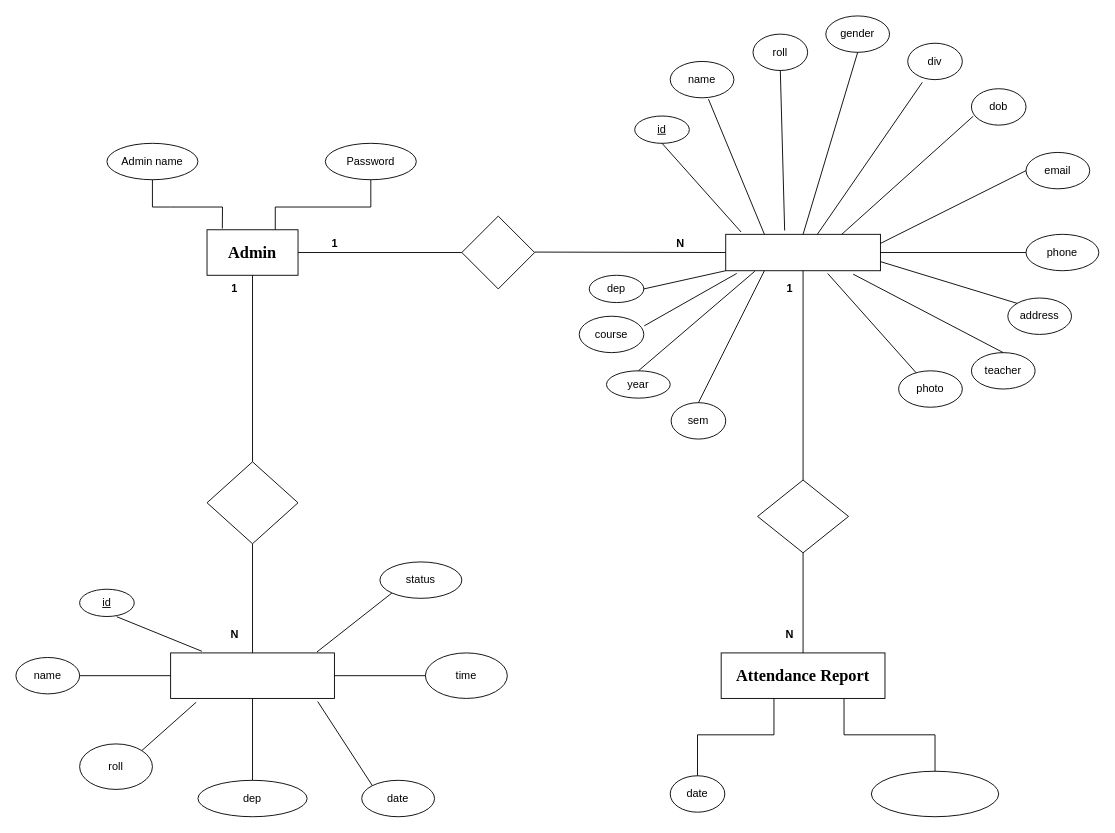
Some shapes in this 1115 by 833 pixel diagram are drawn without their labels. The shapes that lost their labels are listed below. From the top down, each one's centre as x and y in pixels, then its label:
point 498,252: Manages
point 802,252: Student
point 252,502: Generates
point 803,516: Has
point 252,675: Excel Sheet
point 934,793: attendance status
